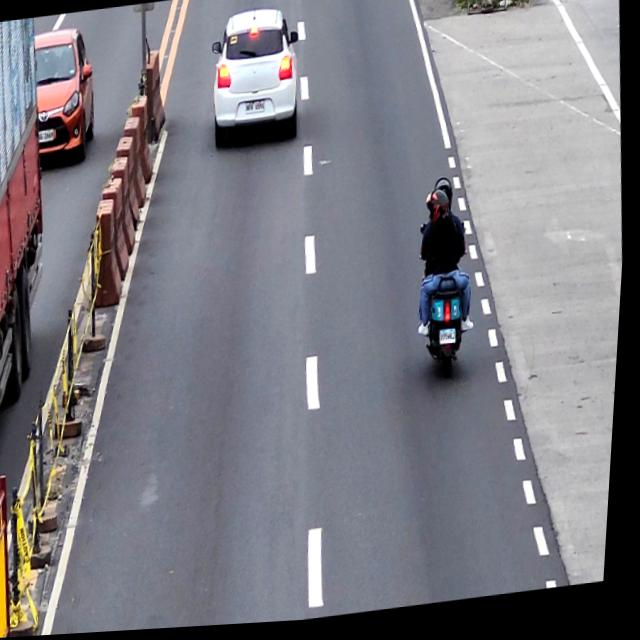Car: (203, 7, 306, 151)
License-Plate: (441, 331, 463, 352), (245, 100, 267, 118)
Motorcycle: (409, 174, 481, 391)
